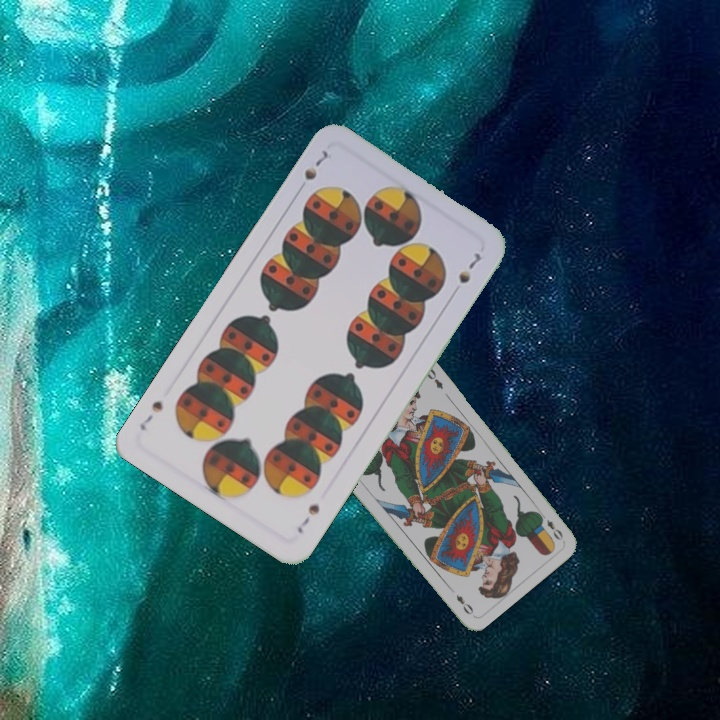EO: (535, 508, 566, 543)
S7: (300, 146, 331, 183), (293, 500, 323, 536)
